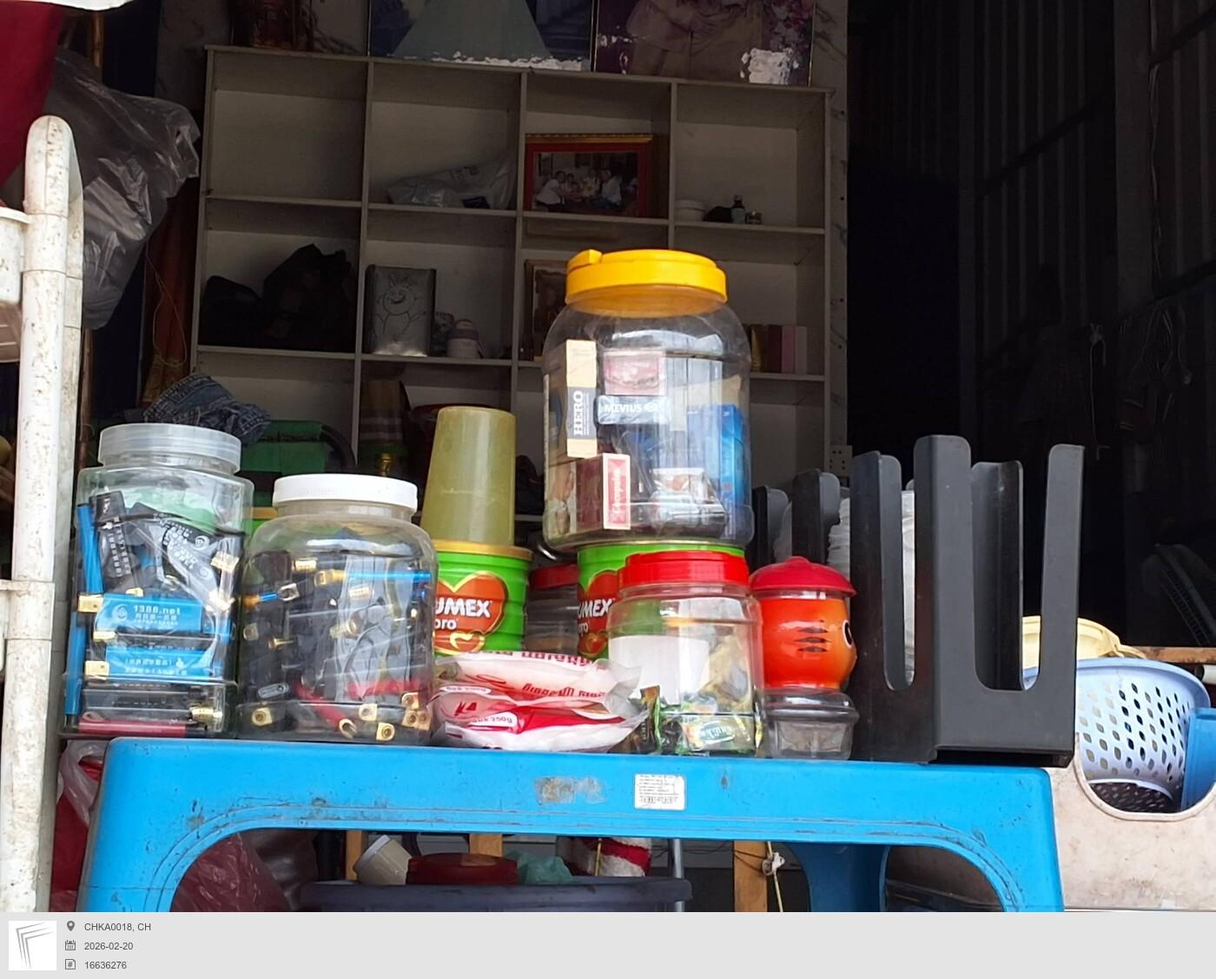cigarette_pack: (610, 424, 720, 539), (688, 405, 756, 540), (543, 454, 631, 544), (538, 341, 596, 460), (598, 345, 663, 394), (596, 394, 674, 426)
